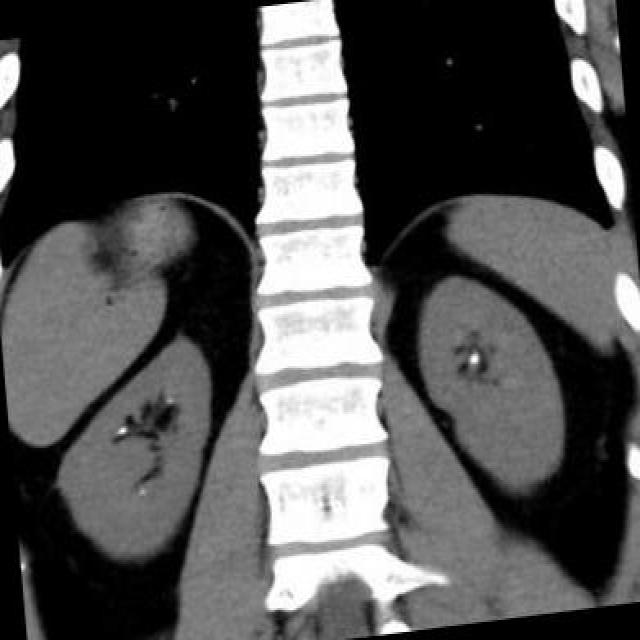Tas_Var: (466, 348, 480, 370), (162, 394, 174, 408), (134, 485, 146, 499), (115, 424, 127, 436)
